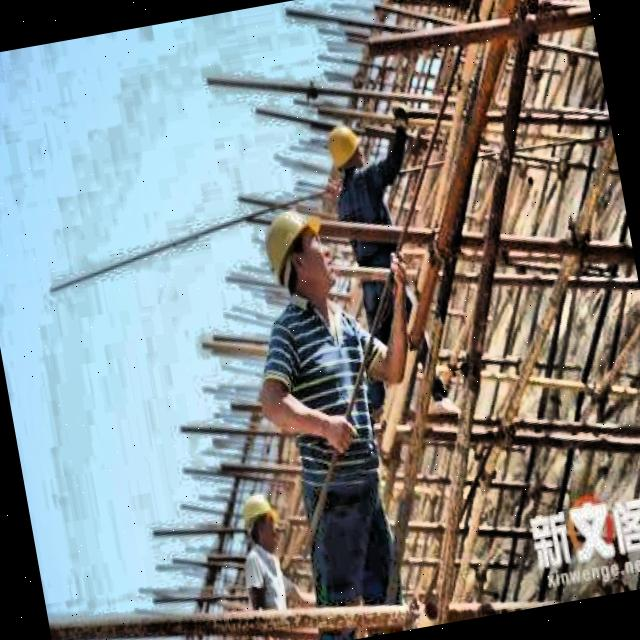helmet: (258, 198, 340, 306), (317, 116, 368, 182), (242, 491, 286, 552)
